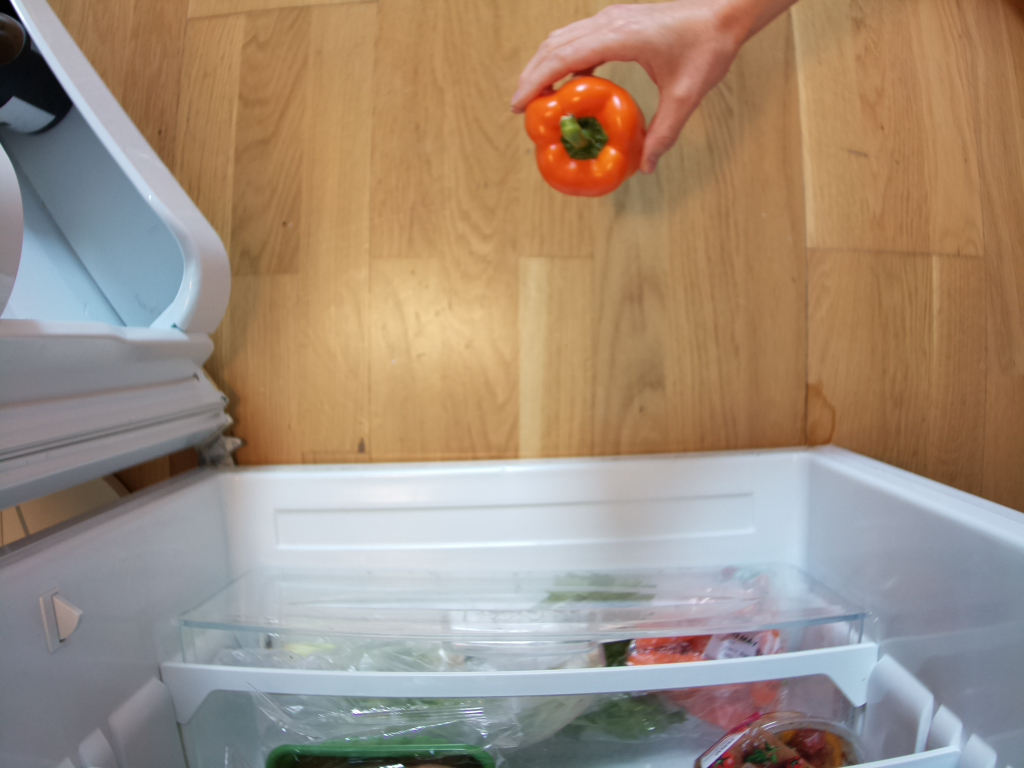pepper: (523, 75, 646, 199)
